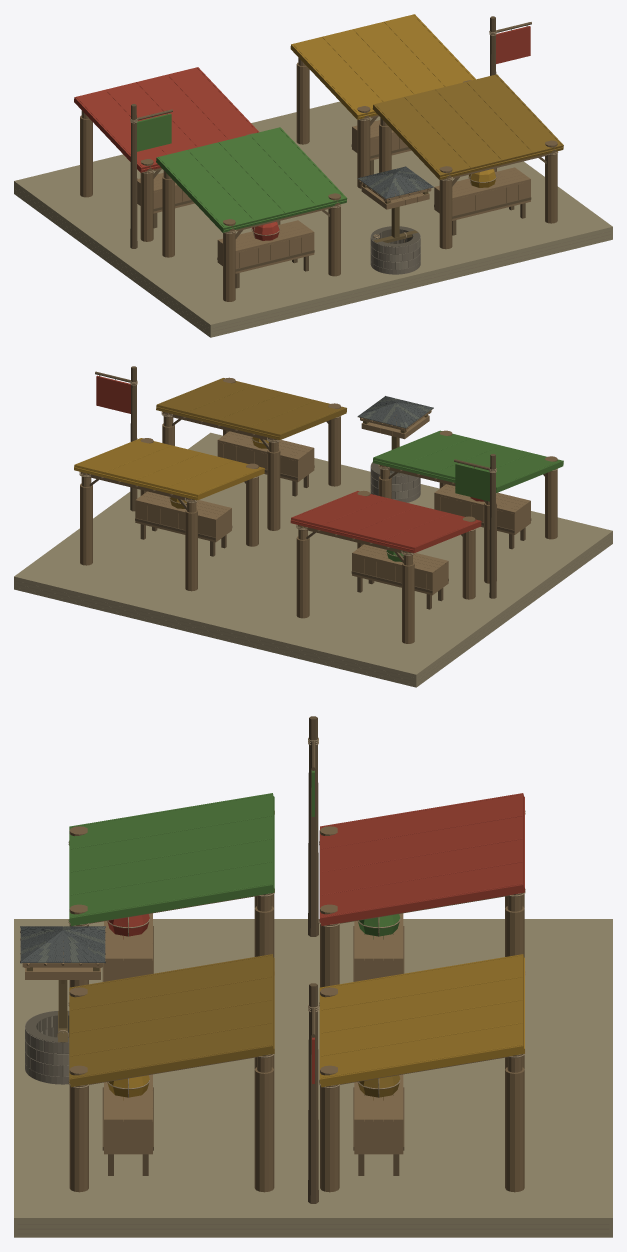
Rendered from shijing.glb.
The picture shows the model from 3 angles, top to bottom: view 1: azimuth 30°, elevation 25°; view 2: azimuth 150°, elevation 25°; view 3: azimuth 270°, elevation 25°; orthographic projection. The views are drawn at different scales.
Visible parts, largest first — view 1: shijing; view 2: shijing; view 3: shijing.
Boxes of the visible parts, box(x1,y1,x2,y2) form: shijing: box(14, 14, 612, 337); shijing: box(14, 366, 612, 687); shijing: box(14, 716, 612, 1237).
Bounding box in the file's own units: 19 × 6.74 × 15.44.
